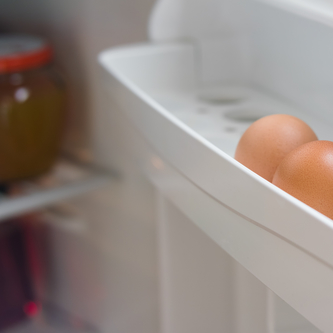egg: (224, 109, 332, 223)
